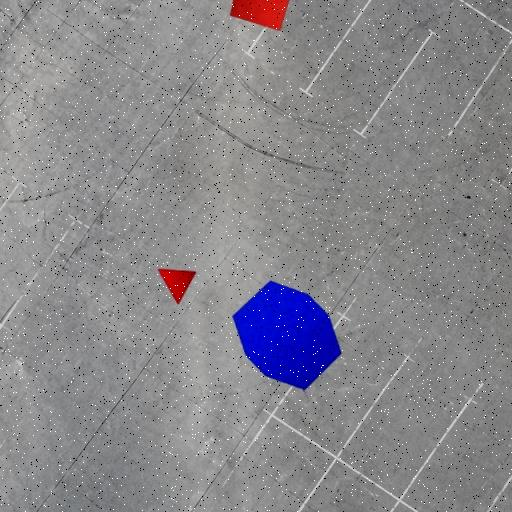RED_SQUARE: (230, 0, 294, 32)
